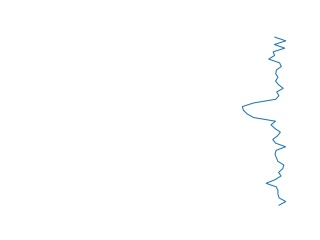interdistributaryEstuary: (239, 37, 296, 205)
